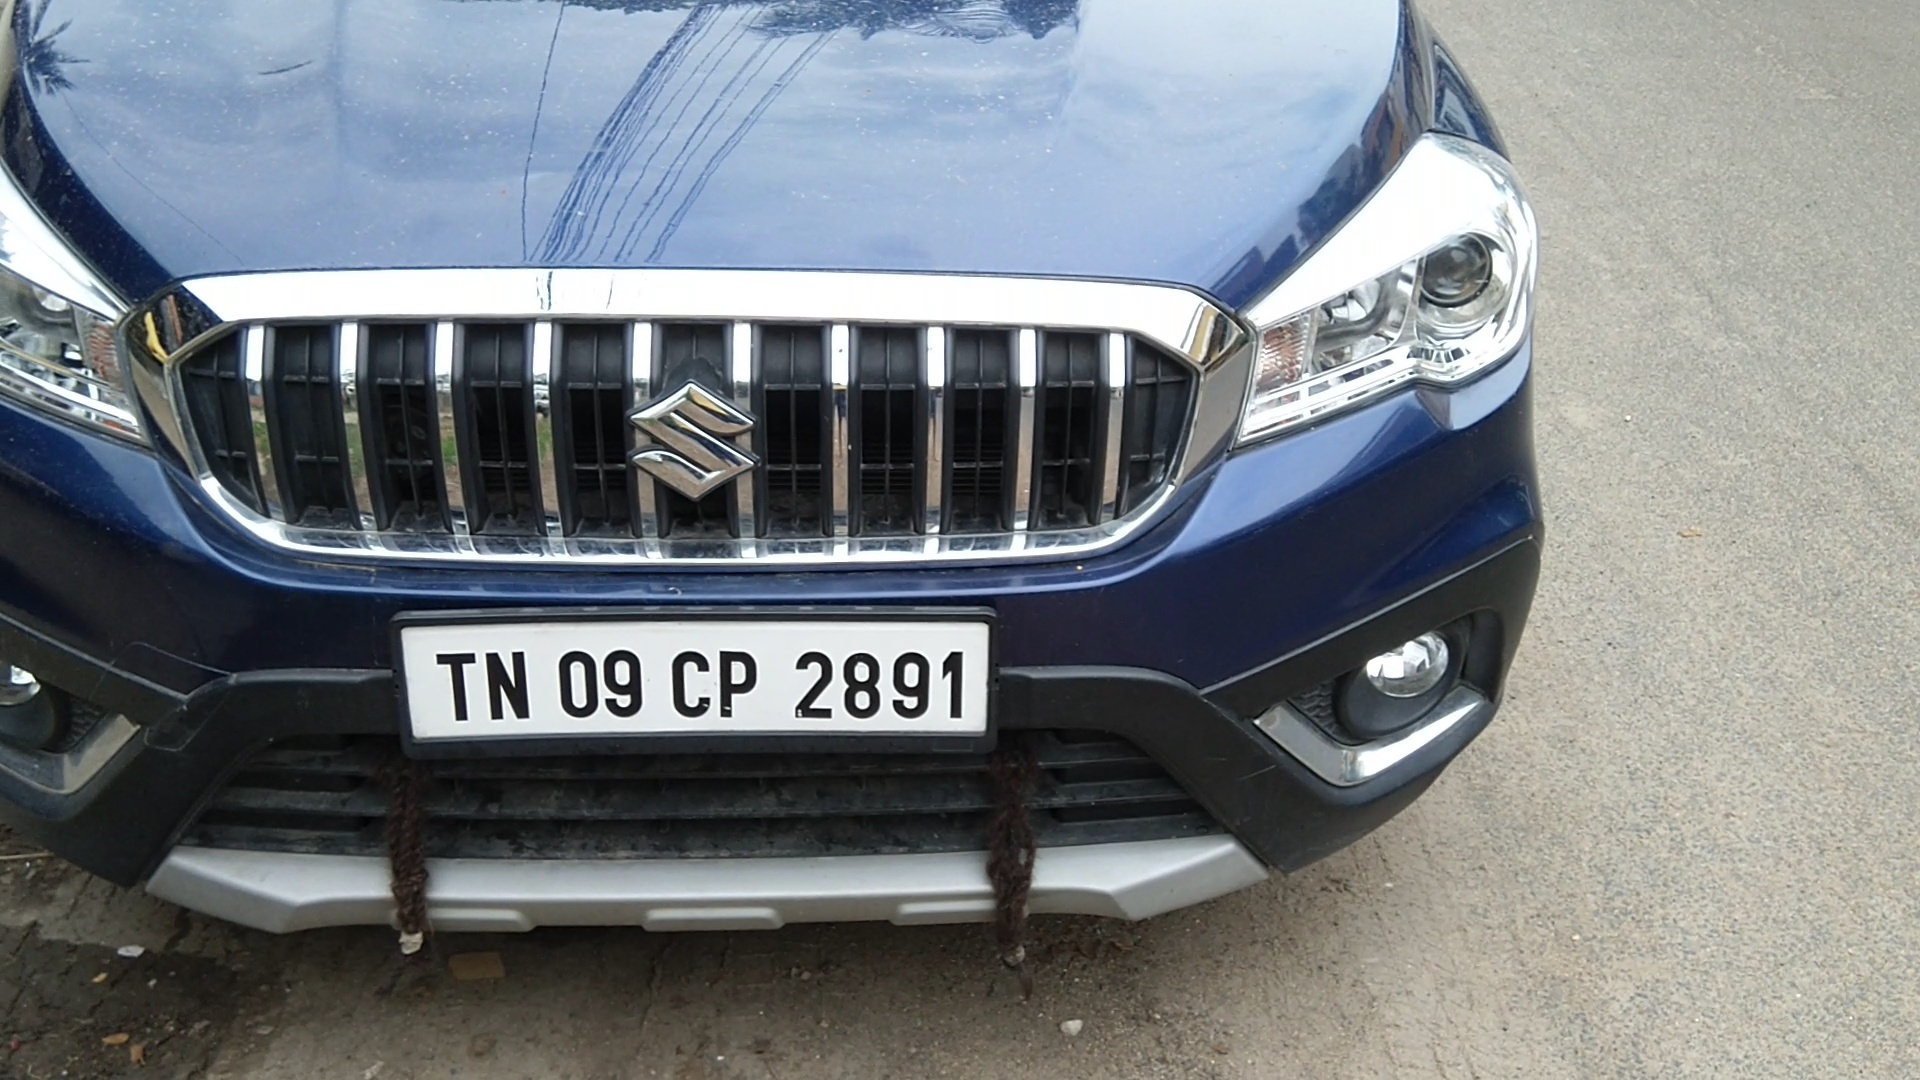front_grill: (141, 252, 1238, 605)
headlamp: (1237, 119, 1549, 481)
